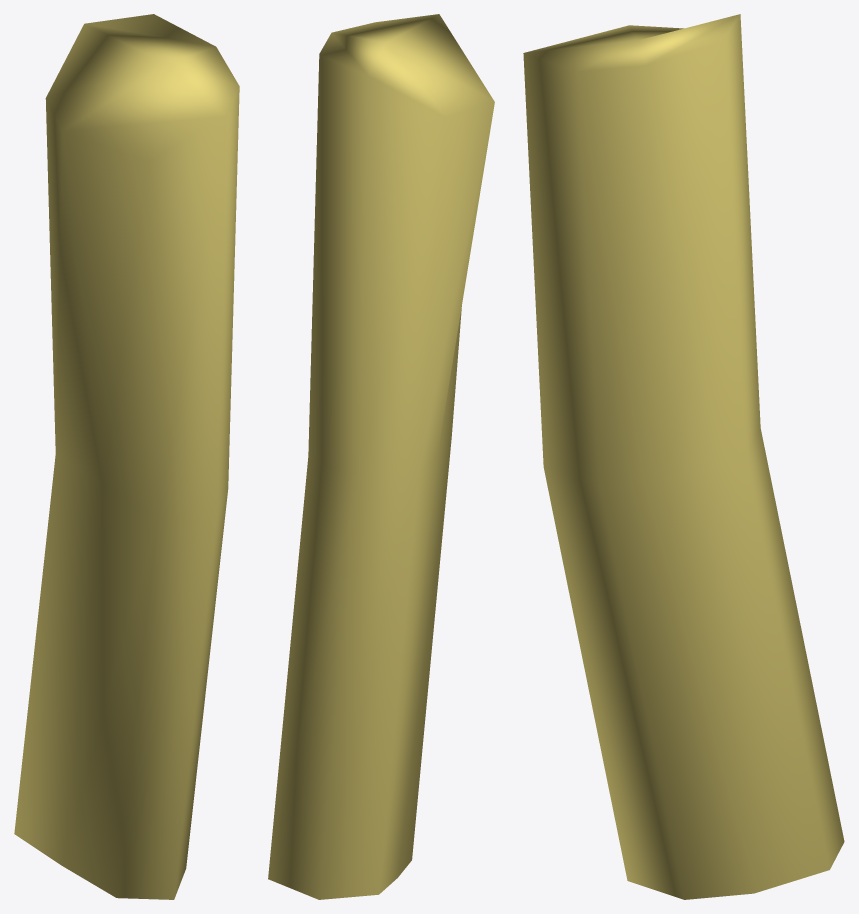
The model's file is accessory-nucleus-of-oculomotor-nerve-r.glb.
3 views of the same model, side by side, from view 1: azimuth 30°, elevation 25°; view 2: azimuth 150°, elevation 25°; view 3: azimuth 270°, elevation 25° (orthographic). The views are drawn at different scales.
Visible parts, largest first — view 1: Accessory nucleus of oculomotor nerve.r; view 2: Accessory nucleus of oculomotor nerve.r; view 3: Accessory nucleus of oculomotor nerve.r.
Part boxes in pixels (left/top/right/bottom): Accessory nucleus of oculomotor nerve.r: left=14, top=14, right=239, bottom=899; Accessory nucleus of oculomotor nerve.r: left=268, top=14, right=494, bottom=899; Accessory nucleus of oculomotor nerve.r: left=523, top=14, right=844, bottom=899.
Bounding box in the file's own units: 0.0017 × 0.00848 × 0.00289.
